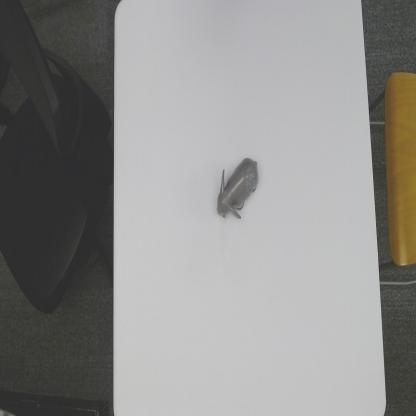Elephant: (216, 156, 260, 219)
